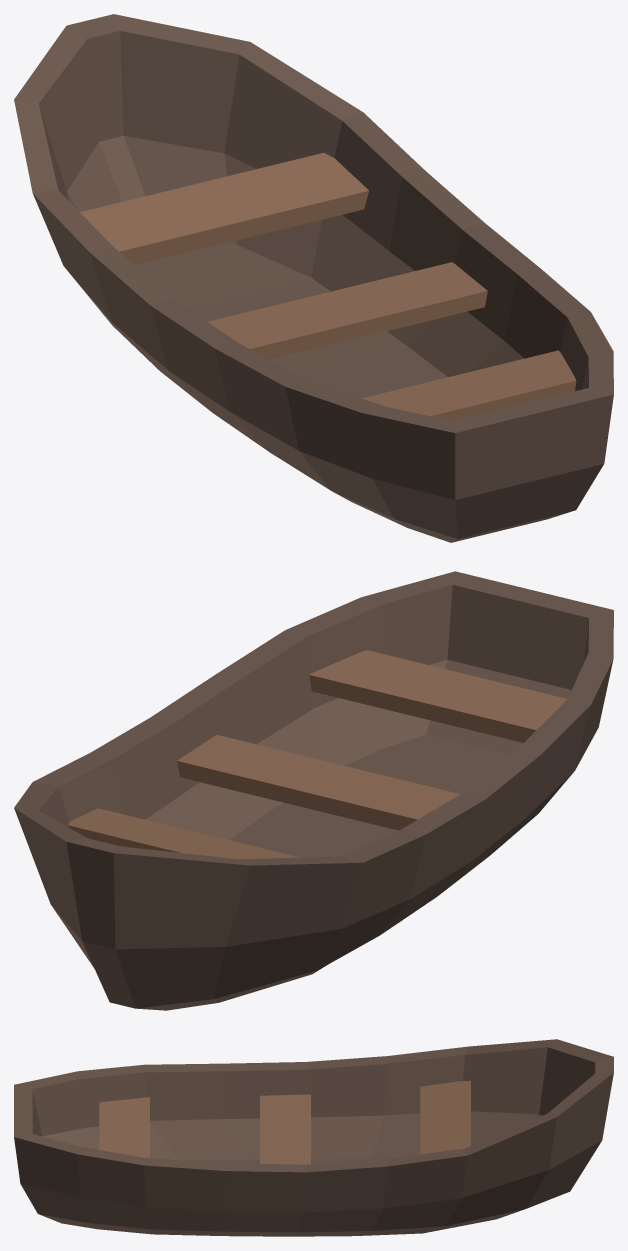
File: RowBoat.fbx
3 views of the same model, one above another, from view 1: azimuth 30°, elevation 25°; view 2: azimuth 150°, elevation 25°; view 3: azimuth 270°, elevation 25° (orthographic). The views are drawn at different scales.
Parts seen in each view (by area): view 1: RowBoat; view 2: RowBoat; view 3: RowBoat.
Boxes of the visible parts, <box> form: RowBoat: <box>14,14,613,542</box>; RowBoat: <box>14,571,613,1010</box>; RowBoat: <box>14,1039,613,1236</box>.
Size of the model in its own units: 1.02 by 2.35 by 0.6202.
